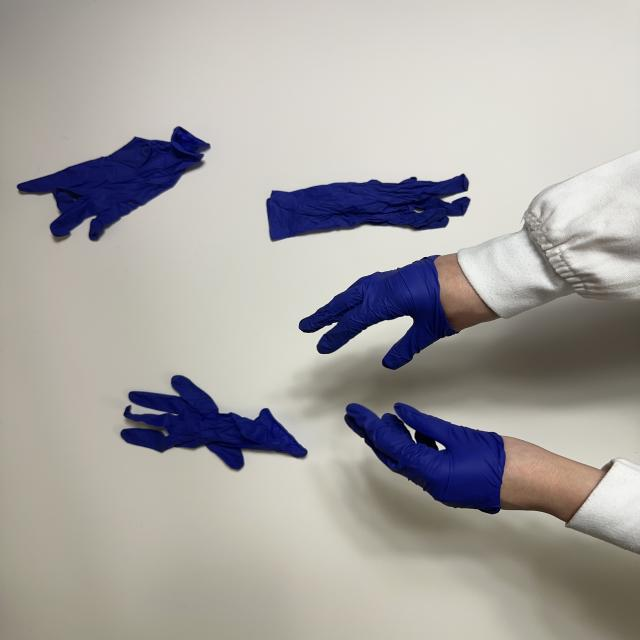glove_not_fitted: (342, 400, 603, 521), (296, 250, 505, 370)
